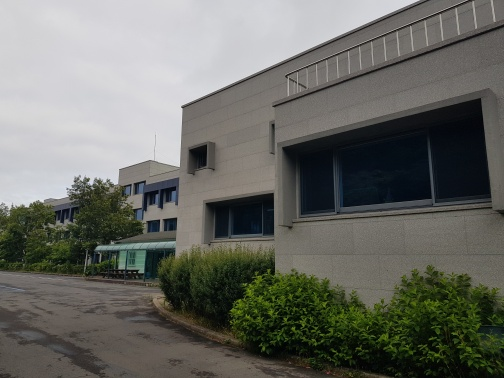College of Social Sciences: (35, 33, 502, 308)
